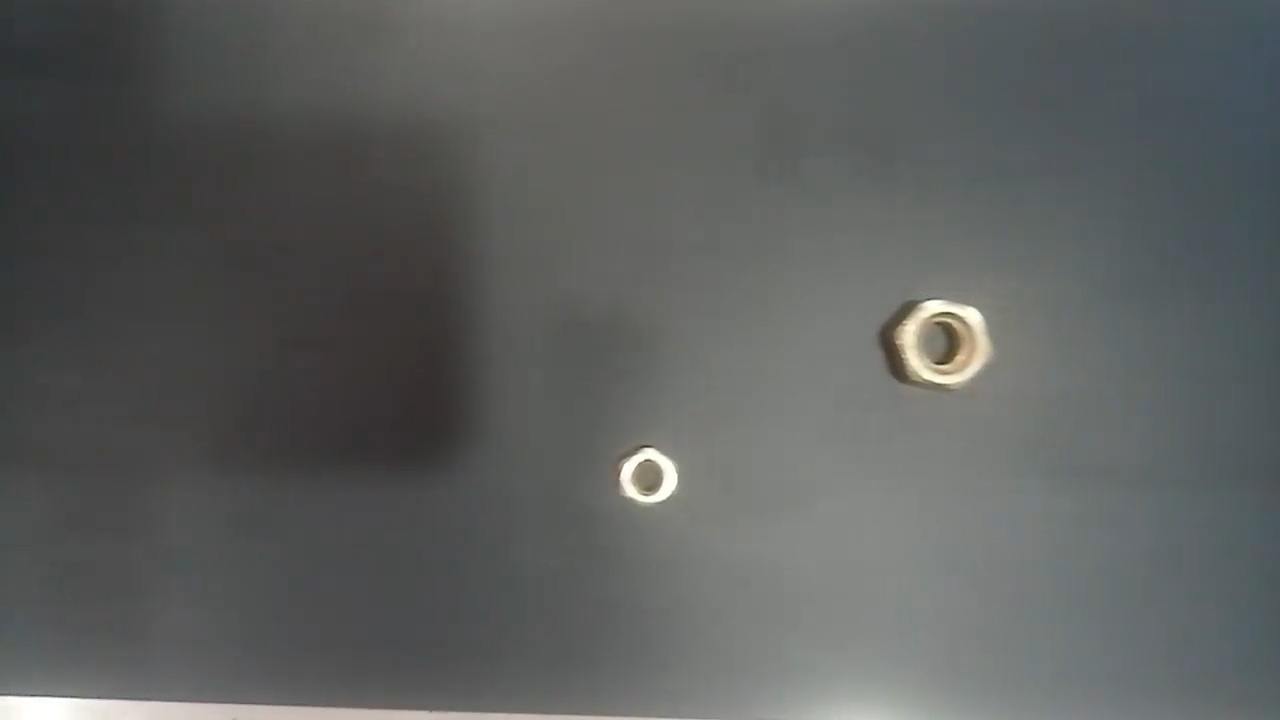Bolt: (887, 296, 998, 392), (616, 443, 679, 509)
